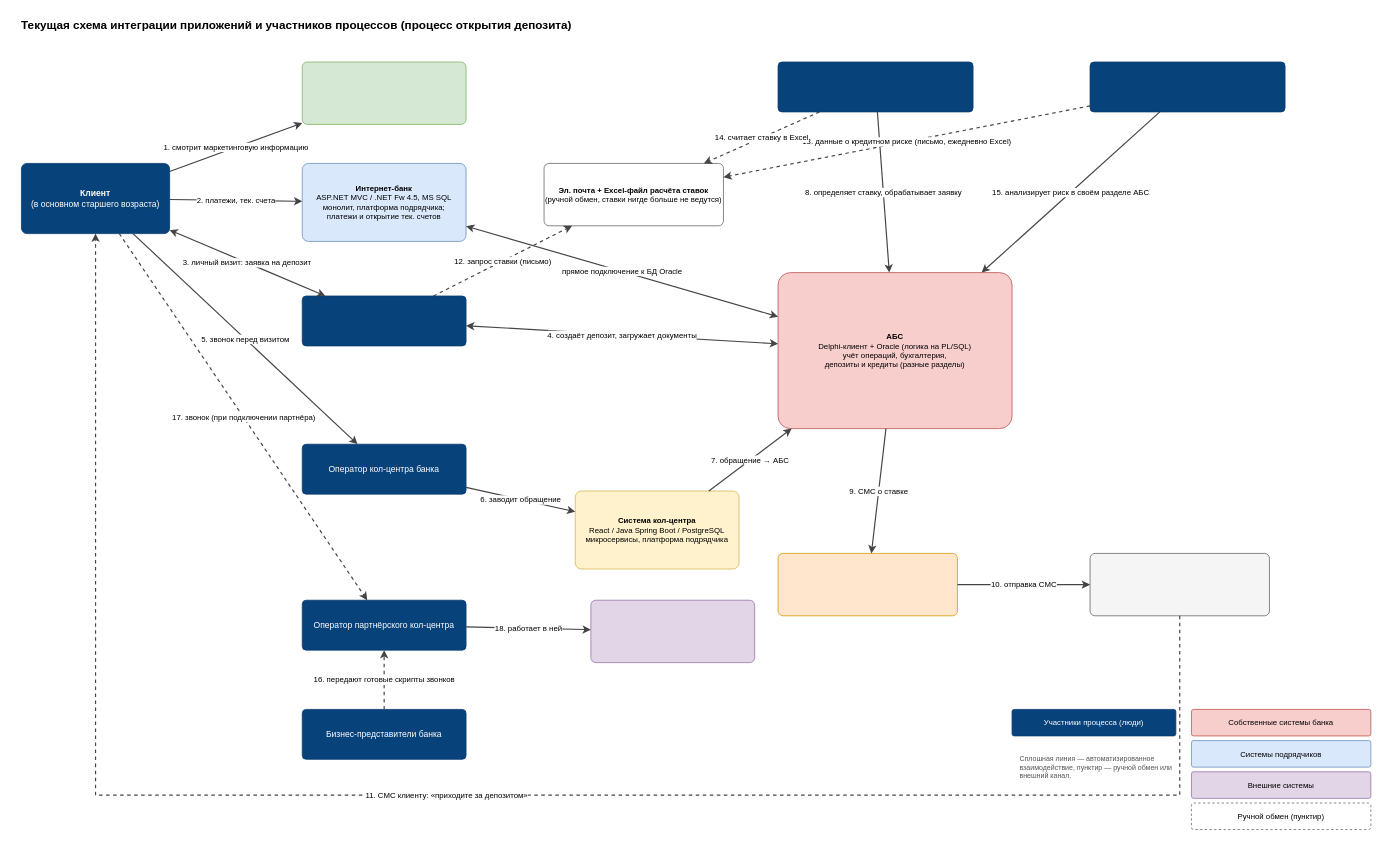
Image size: 1385x843. Some labels were removed from this diagram. The shapes that lost their labels are listed below. From the top down, each one's centre as x and y in pixels, then its label:
[383,92]: Сайт PHP + React.js только маркетинговая информация
[875,86]: Менеджер бэк-офиса депозитов
[1187,86]: Сотрудник отдела кредитования
[383,320]: Сотрудник отделения (фронт-офис)
[867,584]: СМС-шлюз поддерживает IT-отдел банка
[1179,584]: Телеком-оператор (внешний, отправка СМС)
[672,631]: Система партнёрского кол-центра (внешняя информационная система)
